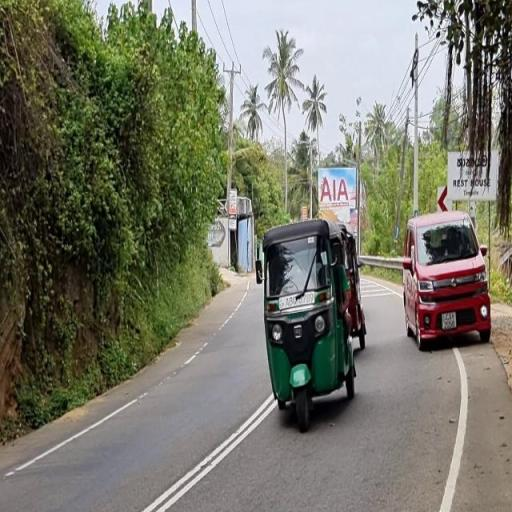double_white_line: (142, 392, 272, 510)
